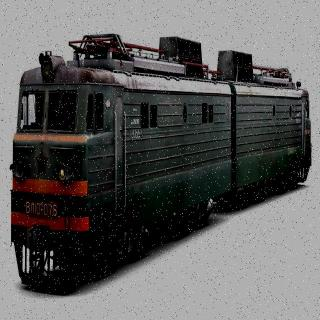poezd: (18, 24, 312, 284)
